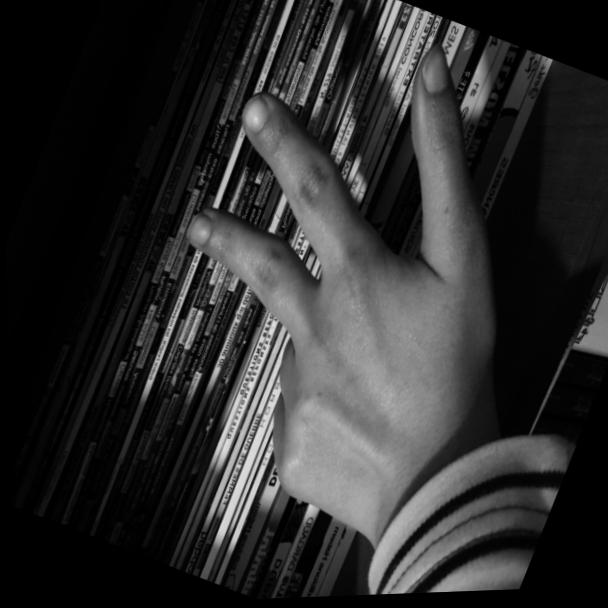three: (88, 0, 573, 574)
